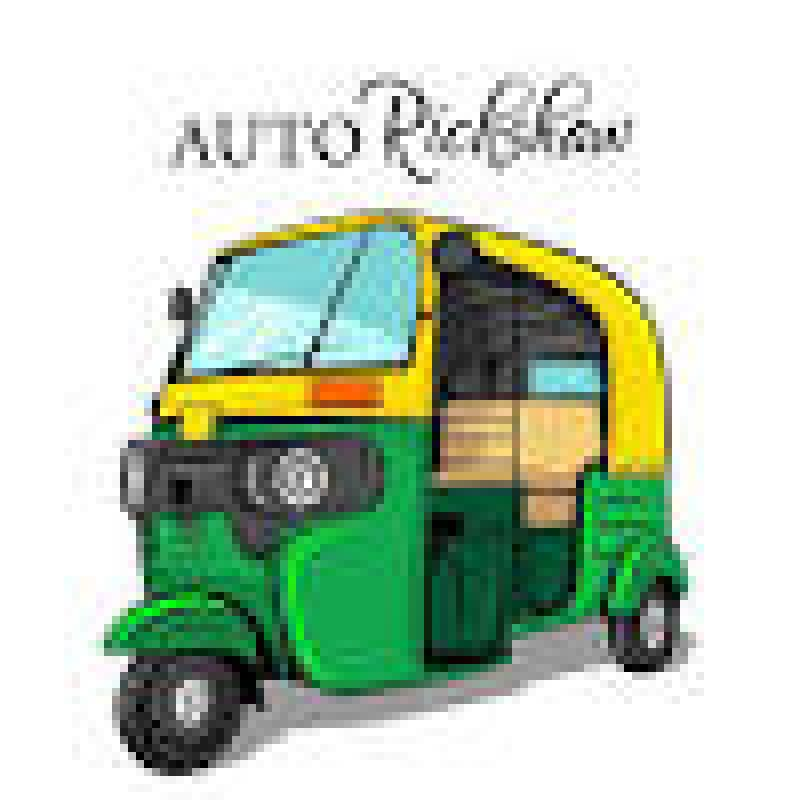auto: (141, 218, 706, 740)
